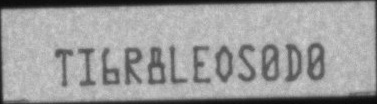0: (306, 40, 327, 81), (260, 42, 281, 81)
6: (101, 47, 120, 86)
8: (147, 44, 167, 85)
D: (283, 44, 303, 82)
E: (192, 45, 210, 84)
I: (76, 47, 98, 87)
L: (170, 45, 186, 84)
O: (214, 45, 234, 83)
R: (124, 46, 144, 86)
S: (237, 43, 255, 82)
T: (54, 48, 74, 87)
